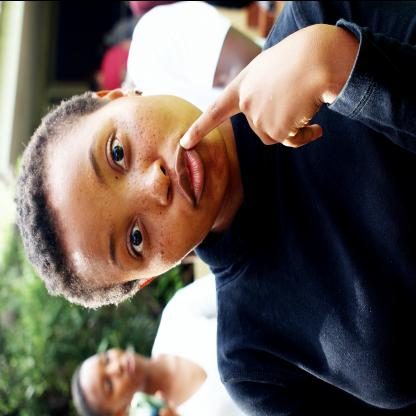Eye: (103, 122, 131, 176), (125, 215, 148, 262), (104, 377, 113, 394), (102, 350, 109, 363)
Mouth: (175, 145, 204, 205), (125, 353, 136, 380)
Nose: (127, 157, 174, 207), (108, 358, 124, 375)
